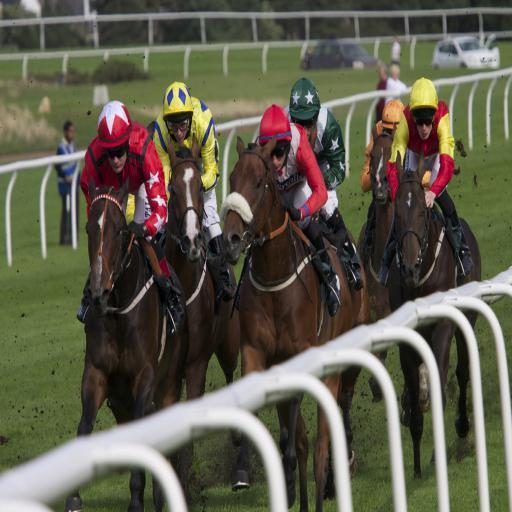horse: (219, 134, 370, 512), (66, 174, 190, 512), (378, 154, 484, 480), (160, 128, 242, 512), (340, 120, 426, 464)
